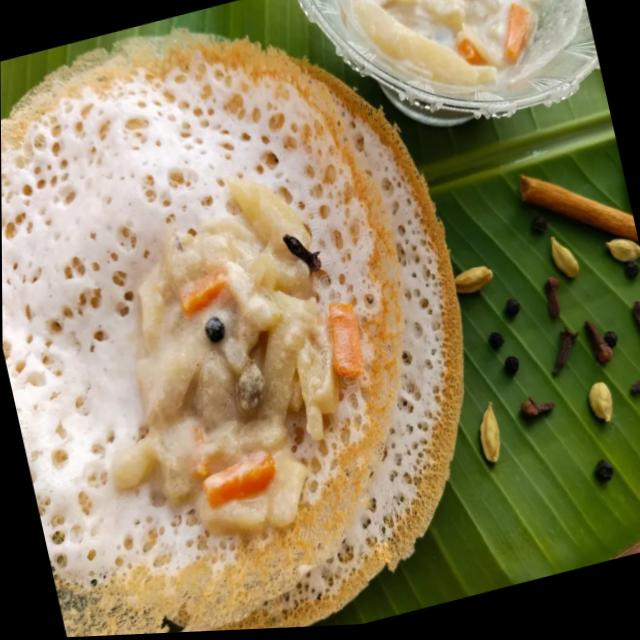AAPAM: (1, 30, 466, 637)
